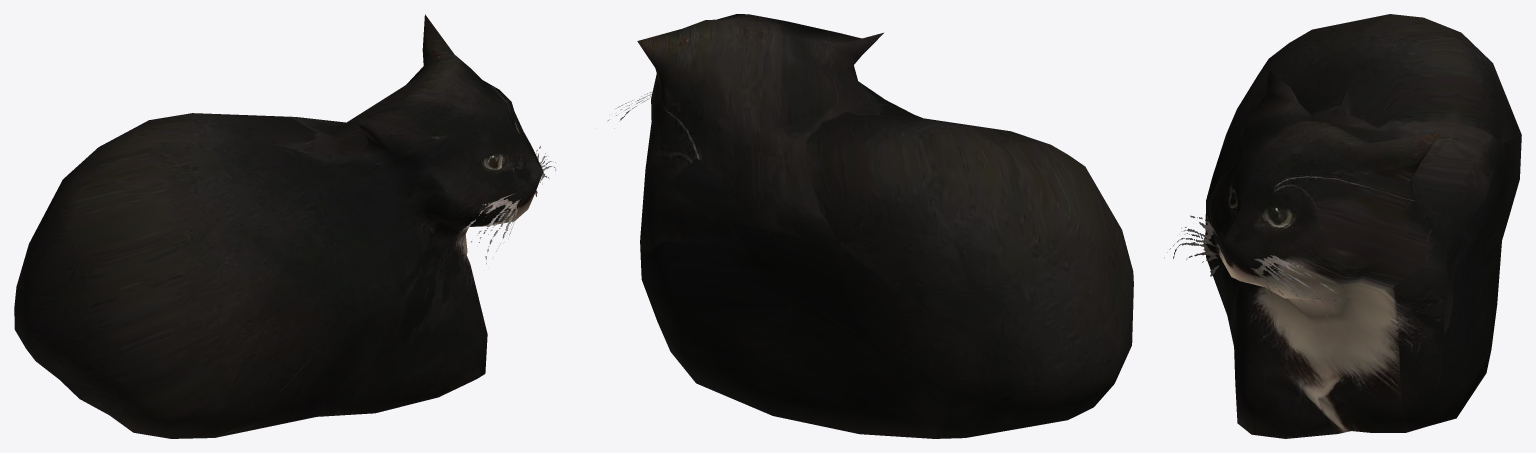
Rendered from maxwell_dance-transformed.glb.
The picture shows the model from 3 angles, left to right: view 1: azimuth 30°, elevation 25°; view 2: azimuth 150°, elevation 25°; view 3: azimuth 270°, elevation 25°; orthographic projection. The views are drawn at different scales.
Visible parts, largest first — view 1: dingus_2; view 2: dingus_2; view 3: dingus_2.
Part boxes in pixels (x1,y1,x2,y2): dingus_2: [14, 14, 556, 438]; dingus_2: [607, 14, 1133, 438]; dingus_2: [1164, 14, 1521, 438].
Size of the model in its own units: 33.23 by 19.21 by 18.75.
2 materials, 2 textured.
